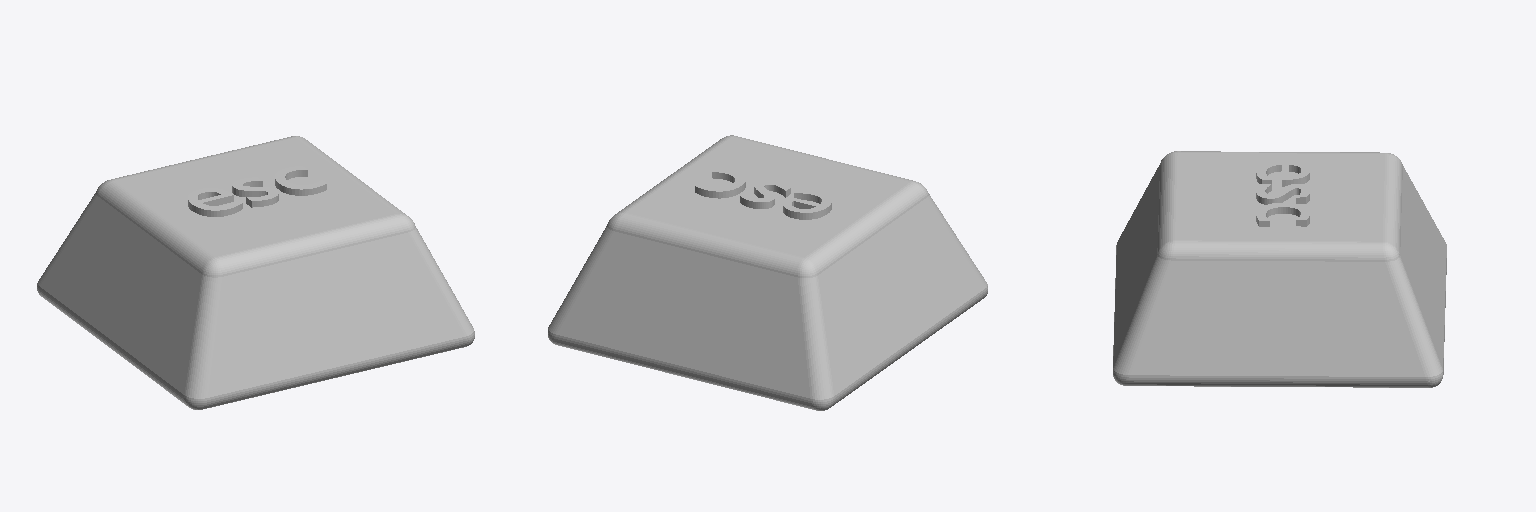
The model's file is esc.obj.
3 views of the same model, side by side, from view 1: azimuth 30°, elevation 25°; view 2: azimuth 150°, elevation 25°; view 3: azimuth 270°, elevation 25° (orthographic).
Parts seen in each view (by area): view 1: Cube_Cube.003, Text_Text.001; view 2: Cube_Cube.003, Text_Text.001; view 3: Cube_Cube.003, Text_Text.001.
Boxes of the visible parts, x1,y1,x2,y2 form: Cube_Cube.003: [37, 136, 474, 409]; Text_Text.001: [188, 166, 326, 216]; Cube_Cube.003: [548, 135, 987, 410]; Text_Text.001: [695, 168, 831, 219]; Cube_Cube.003: [1113, 151, 1446, 387]; Text_Text.001: [1256, 160, 1309, 226].
Size of the model in its own units: 1.98 by 0.8592 by 1.98.